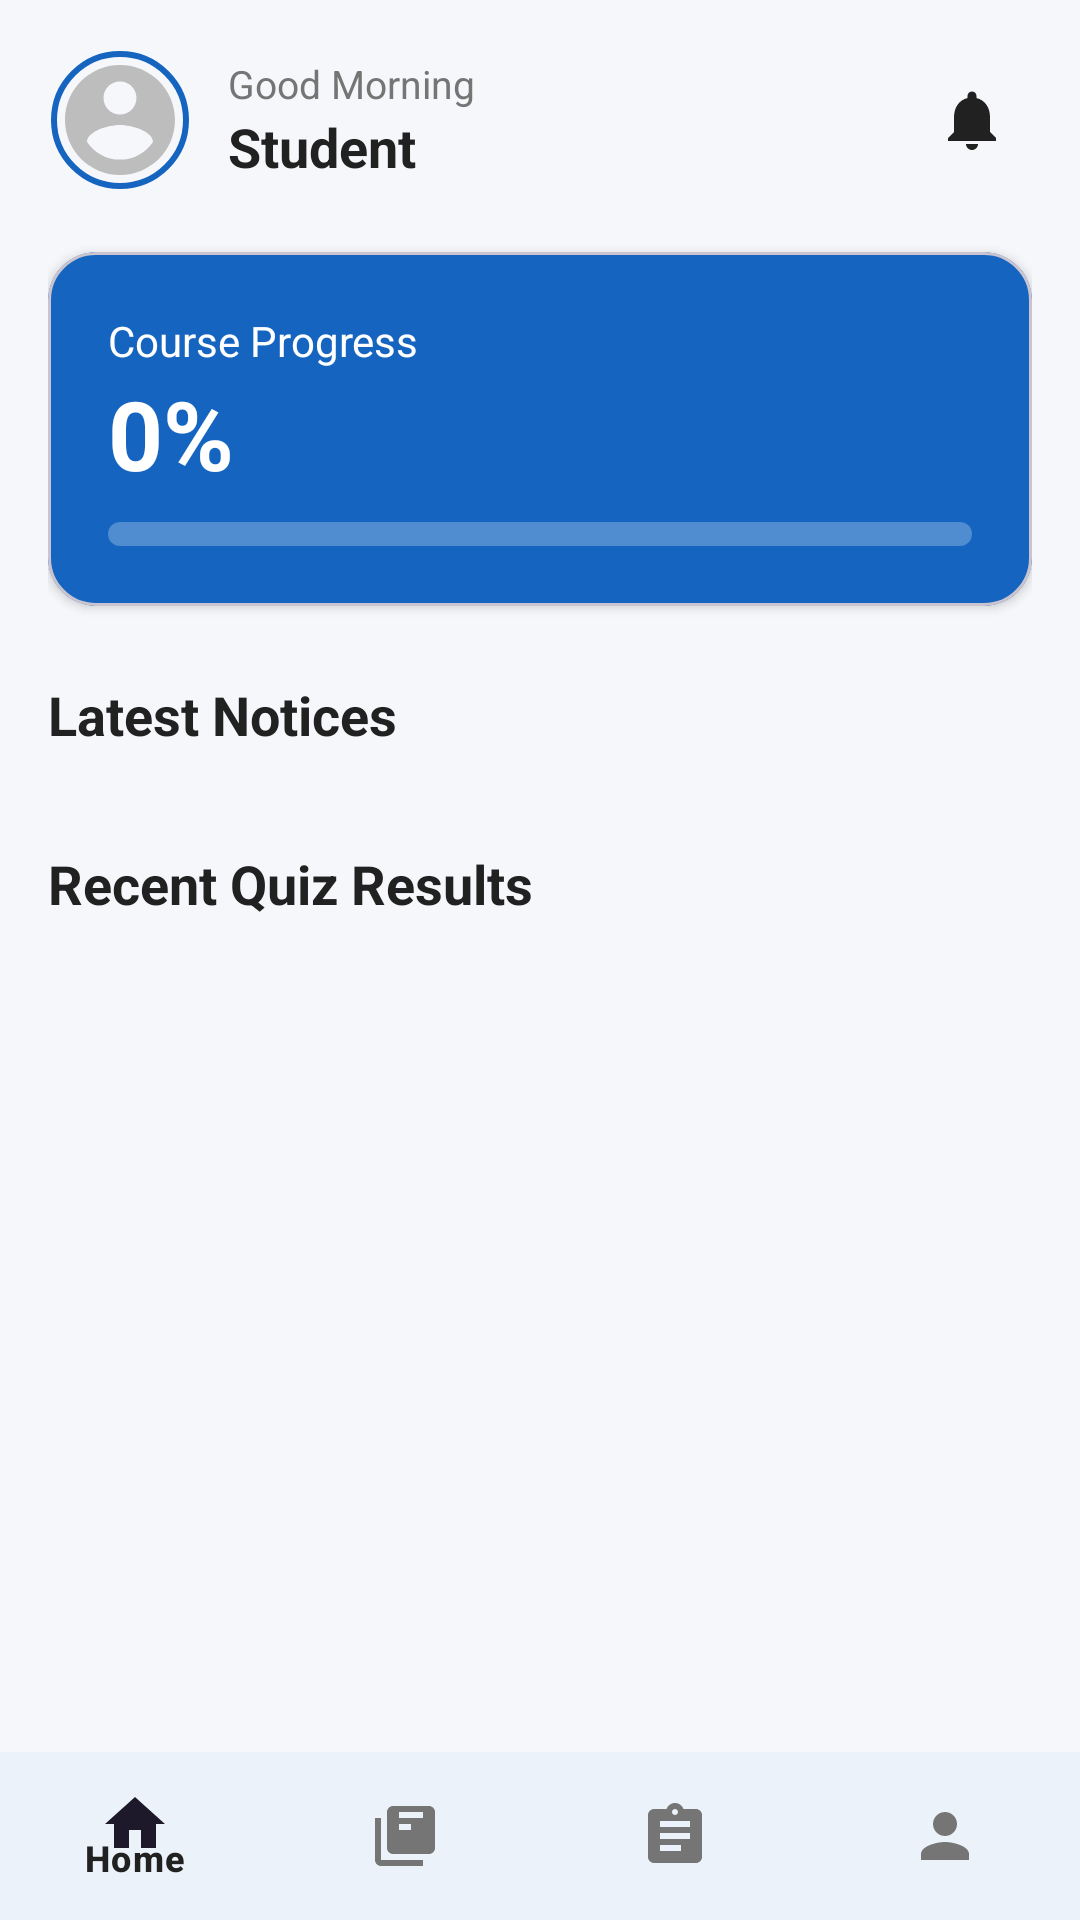

Screen size 1080x1920. Icon name, then its box in pixels as (x1, y1, x2, y2):
notification: (948, 91, 996, 150)
